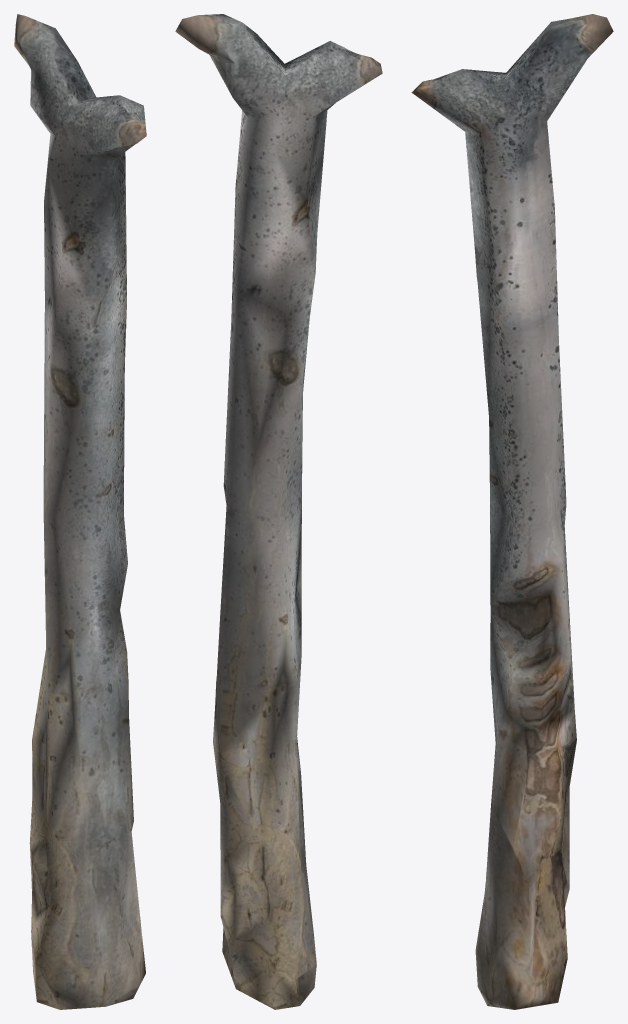
Rendered from dead_quiver_trunk.glb.
The picture shows the model from 3 angles, left to right: view 1: azimuth 90°, elevation 25°; view 2: azimuth 150°, elevation 25°; view 3: azimuth 330°, elevation 25°; orthographic projection. The views are drawn at different scales.
Visible parts, largest first — view 1: dead_quiver_trunk_LOD0; view 2: dead_quiver_trunk_LOD0; view 3: dead_quiver_trunk_LOD0.
Part boxes in pixels (left/top/right/bottom): dead_quiver_trunk_LOD0: left=14, top=14, right=146, bottom=1009; dead_quiver_trunk_LOD0: left=175, top=14, right=382, bottom=1009; dead_quiver_trunk_LOD0: left=411, top=14, right=613, bottom=1009.
Size of the model in its own units: 0.3035 by 1.98 by 0.2478.
Materials: 1 (1 with a texture image).
